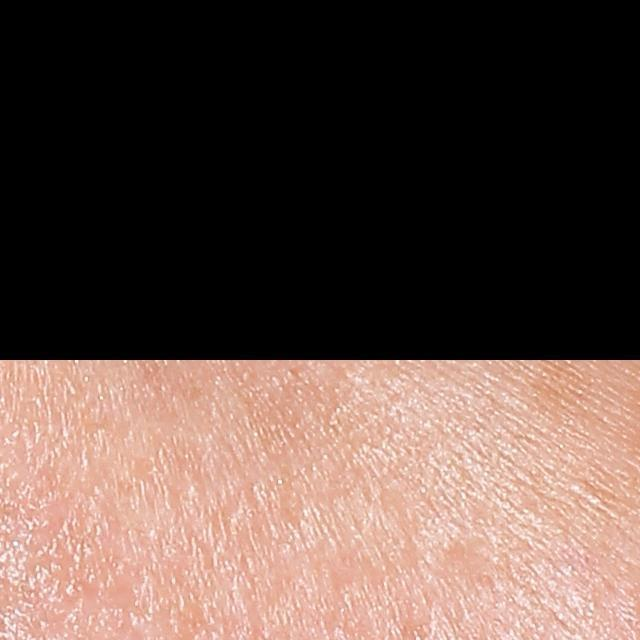melasma: (527, 355, 586, 422)
